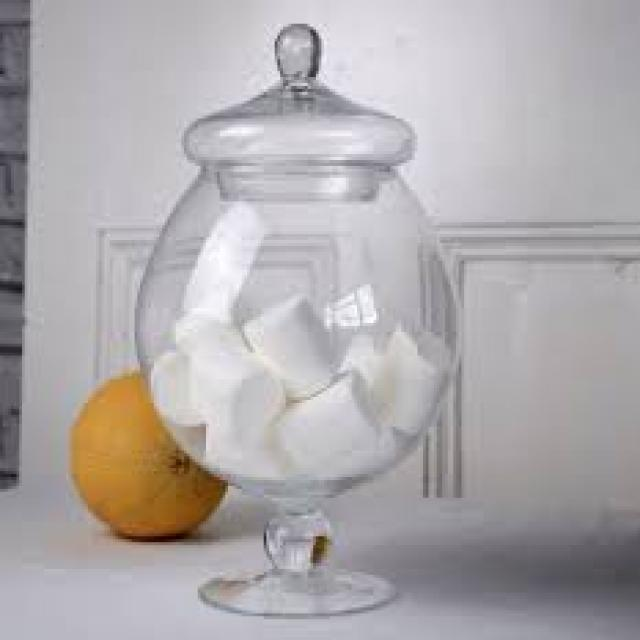organic waste: (72, 368, 226, 540)
